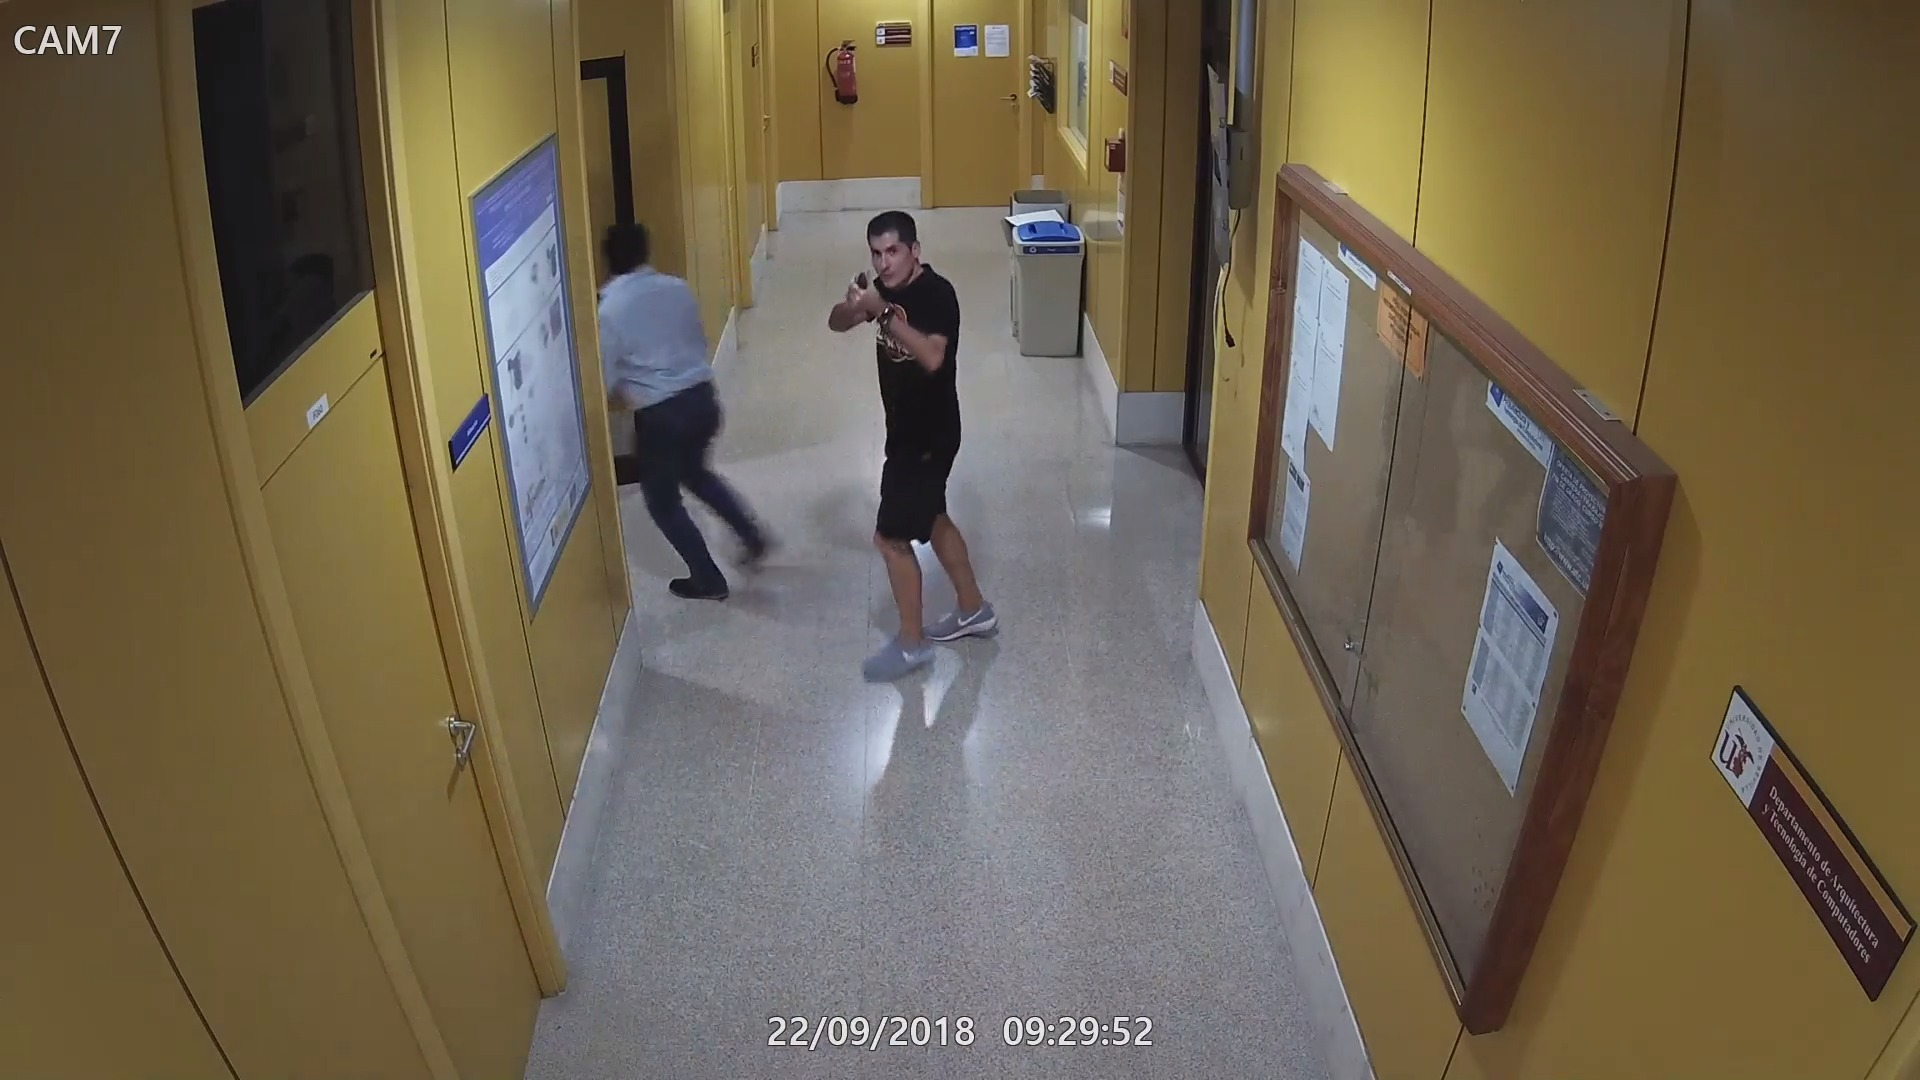Handgun: (844, 270, 880, 316)
